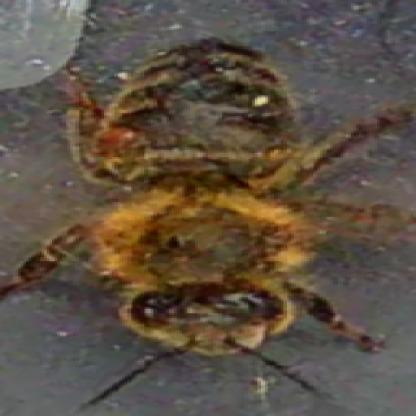bee: (70, 32, 316, 370)
vaoora: (96, 128, 142, 156)
